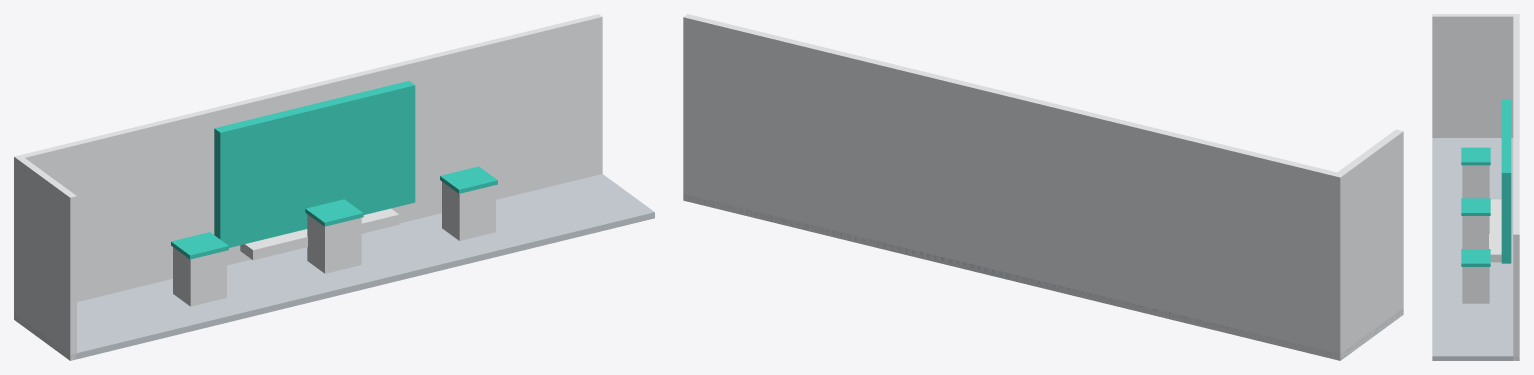
3 views of the same model, side by side, from view 1: azimuth 30°, elevation 25°; view 2: azimuth 150°, elevation 25°; view 3: azimuth 270°, elevation 25° (orthographic). The views are drawn at different scales.
Visible parts, largest first — view 1: Exhibition Booth Concept; view 2: Exhibition Booth Concept; view 3: Exhibition Booth Concept.
Boxes of the visible parts, x1,y1,x2,y2 form: Exhibition Booth Concept: [14, 14, 654, 360]; Exhibition Booth Concept: [683, 14, 1403, 360]; Exhibition Booth Concept: [1432, 14, 1519, 360].
Bounding box in the file's own units: 12 × 3.2 × 2.
